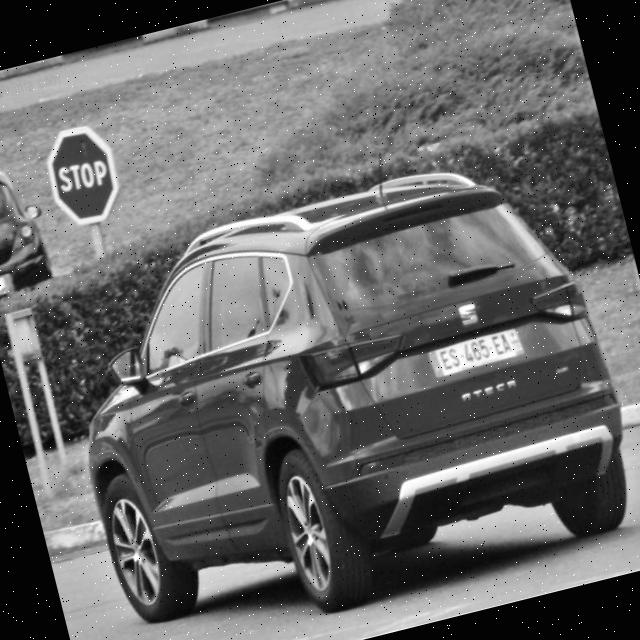EU: (420, 316, 531, 378)
